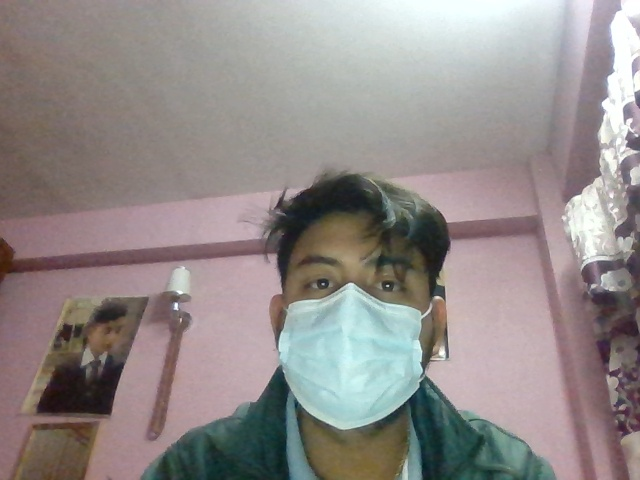mask: (274, 297, 445, 438)
